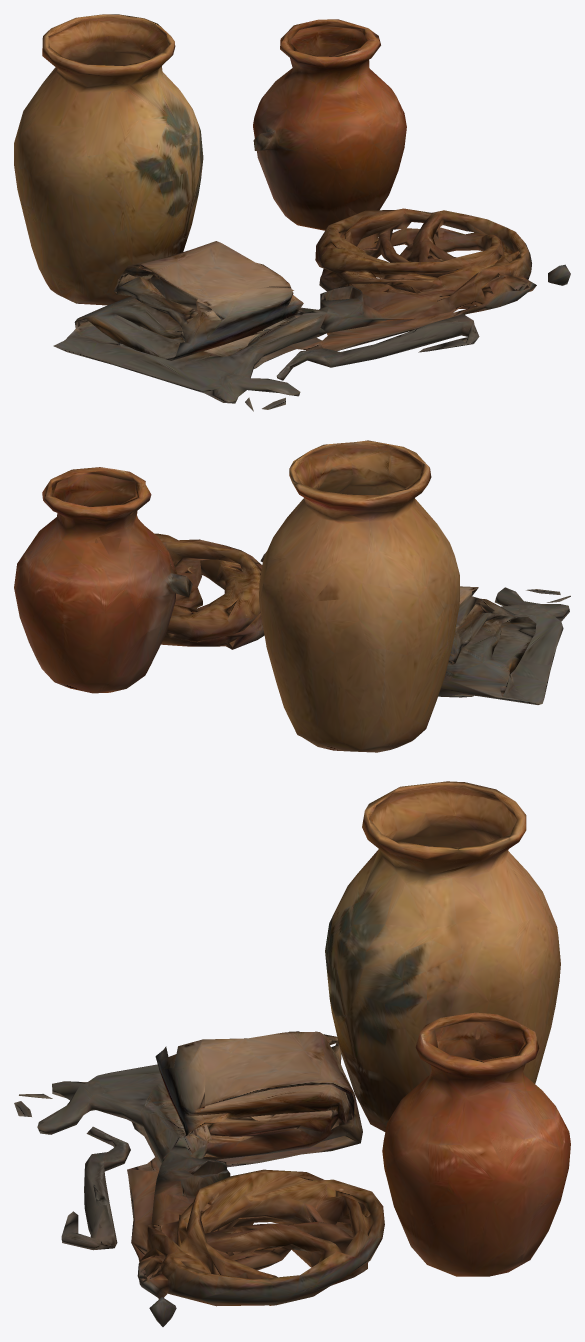
The model's file is werkzeuge.glb.
3 renders of one model, top to bottom at view 1: azimuth 30°, elevation 25°; view 2: azimuth 150°, elevation 25°; view 3: azimuth 270°, elevation 25°, orthographic. The views are drawn at different scales.
Size of the model in its own units: 1.99 by 1.01 by 1.69.
Materials: 1 (1 with a texture image).
